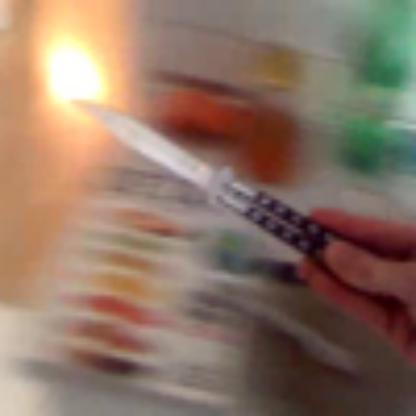knives: (67, 91, 370, 336)
